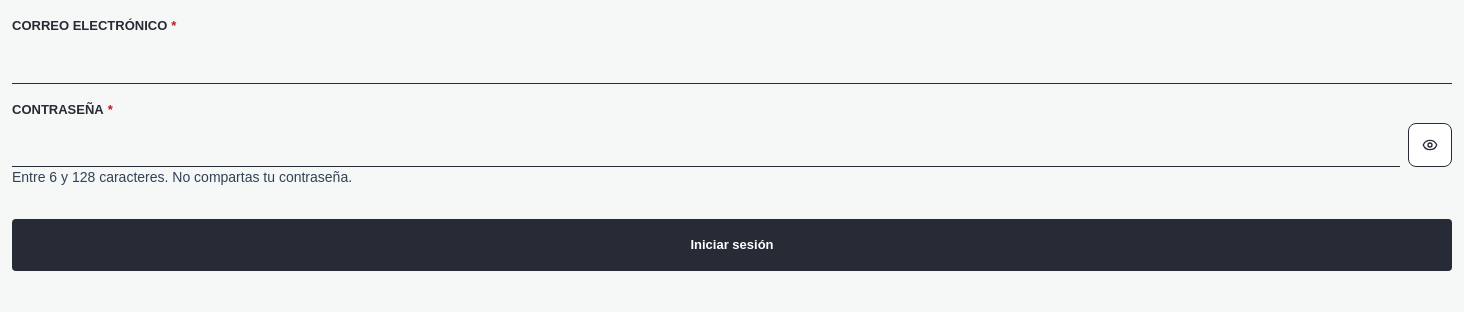
Test: styles failed login feedback without changing neutral initial feedback
Type "persona@example.invalid" into the field labelled "Correo electrónico".
click(732, 62); type("persona@example.invalid")  # box [12,40,1452,84]
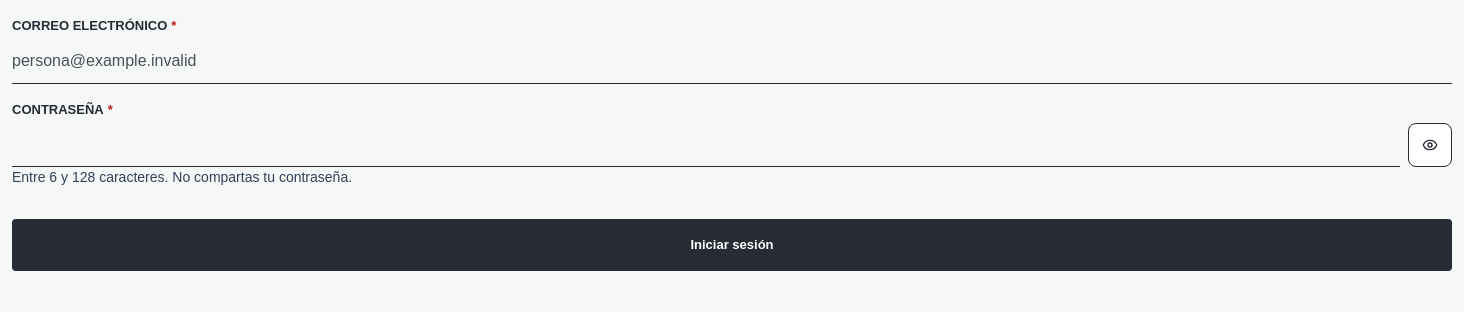
Type "Ficticia-test-123" into the password field labelled "Contraseña".
click(706, 145); type("Ficticia-test-123")  # box [12,123,1400,167]
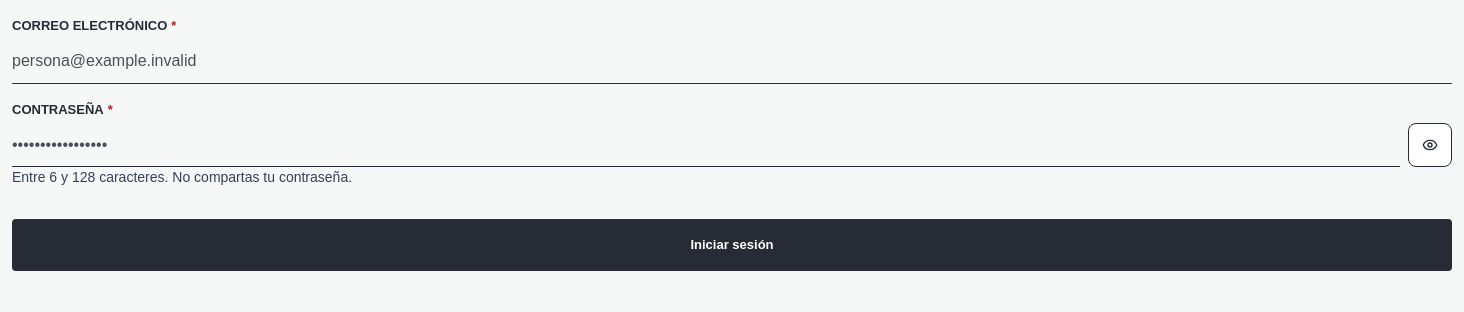
Submit the form named "Iniciar sesión"
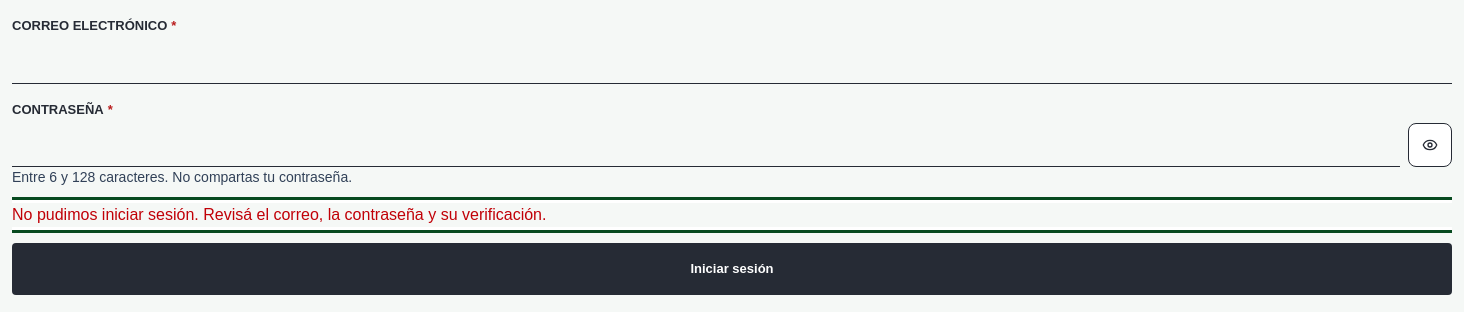
Now the message shows "No pudimos", box [12,206,546,223]
